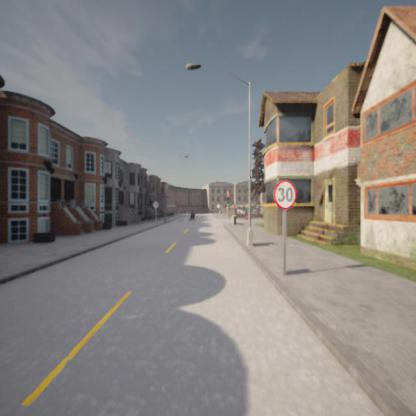traffic_sign_30: (273, 179, 297, 210)
